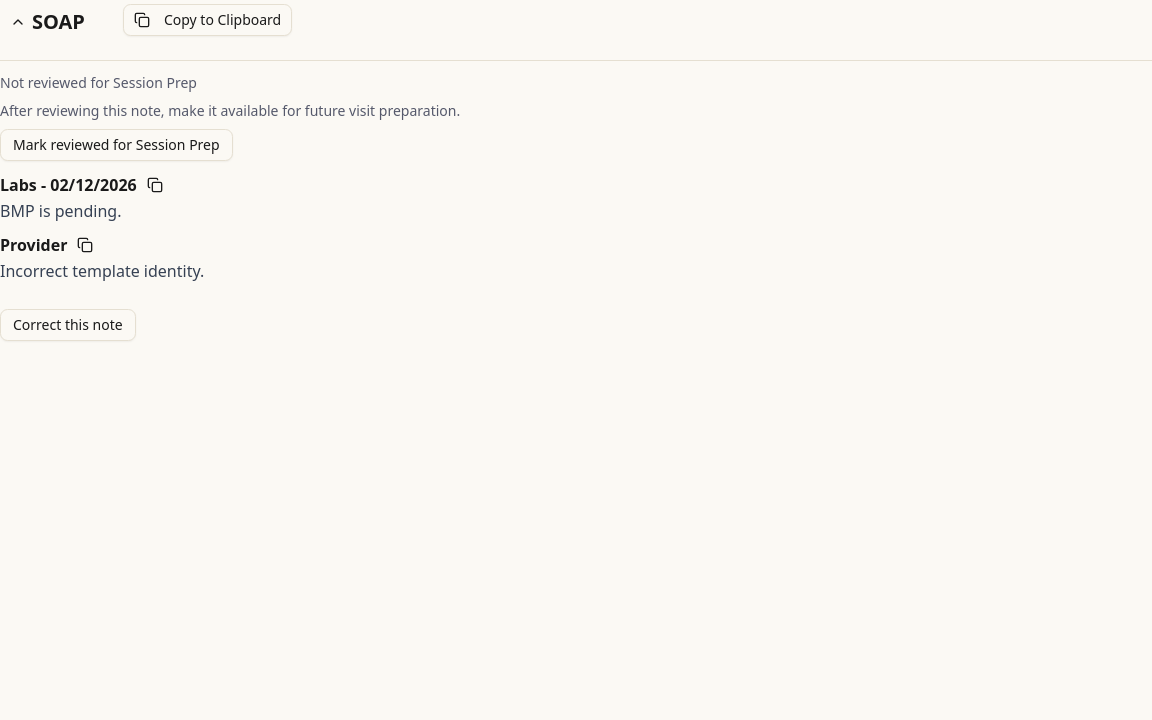
Scenario: SessionPrepSourceNoteEditor › blocks review of the displayed old version while changes are unsaved
Expected: the button "Mark reviewed for Session Prep" is shown, [0,129,233,161]
Click the button "Correct this note" at (68, 325), box [0,309,136,341]
(page scrolled)
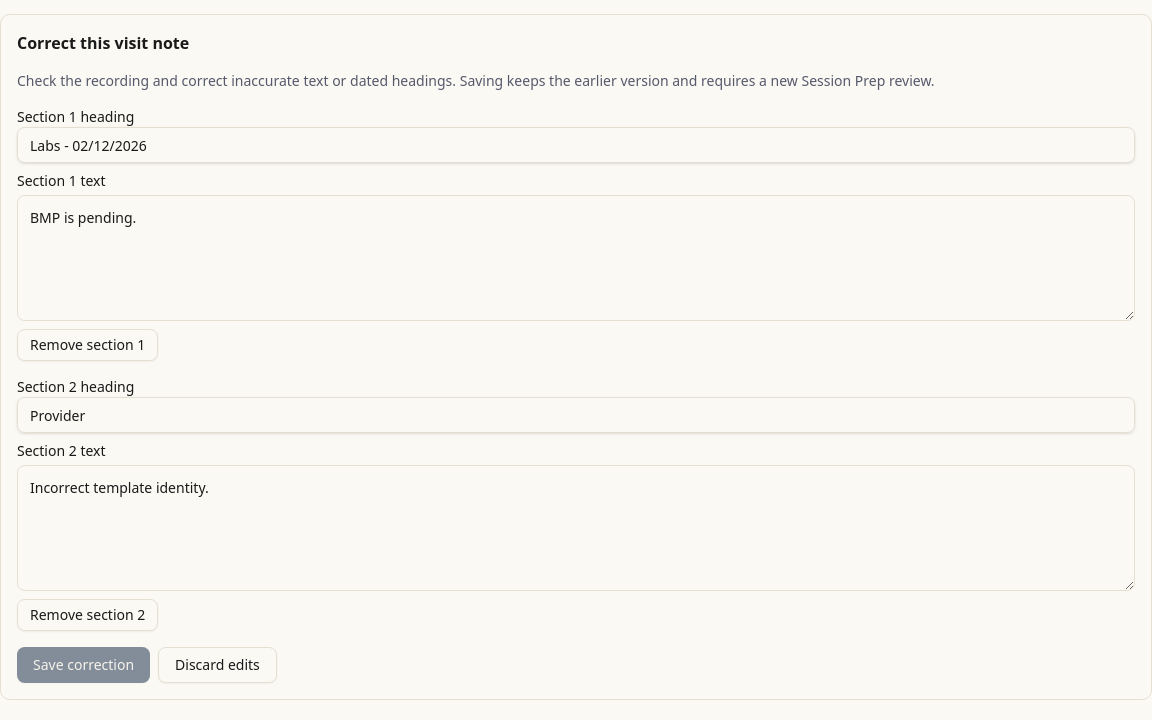
Expected: the button "Mark reviewed for Session Prep" is gone
Click the button "Discard edits" at (218, 665), box [158,647,277,683]
(page scrolled)
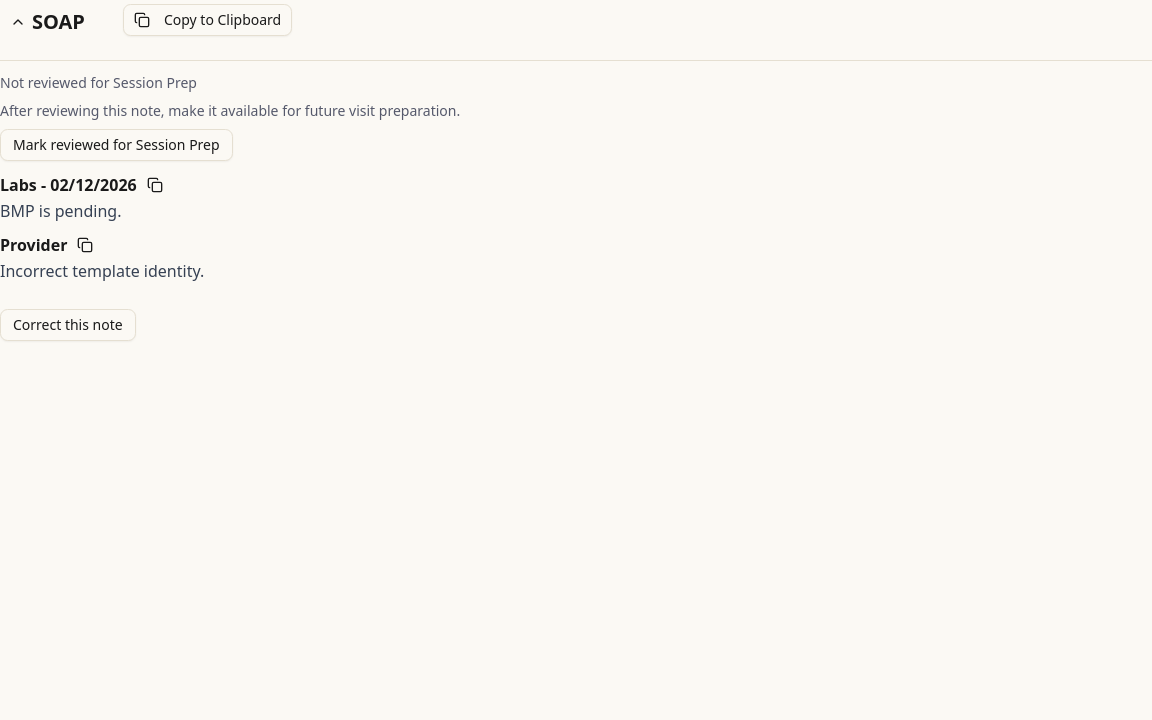
Expected: the button "Mark reviewed for Session Prep" is shown, [0,129,233,161]
